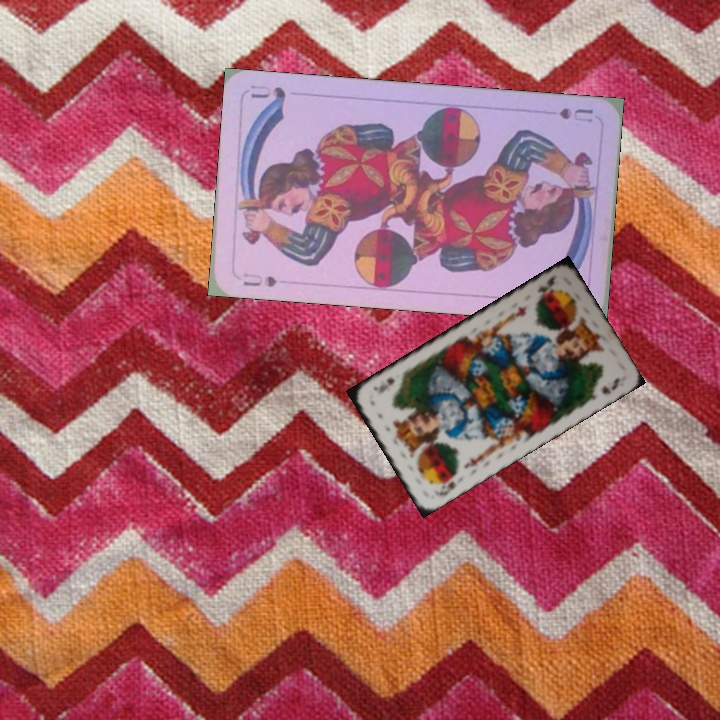SK: (430, 469, 461, 499), (533, 271, 559, 297)
SU: (555, 104, 596, 125), (239, 269, 280, 290)
